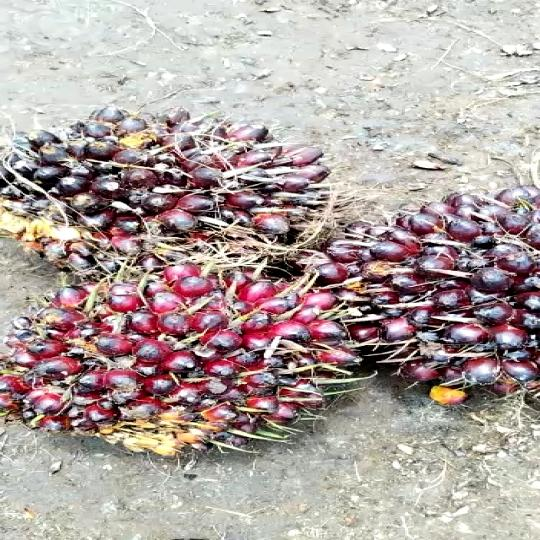kurang masak: (0, 250, 350, 476), (0, 106, 307, 297), (326, 173, 540, 405)
